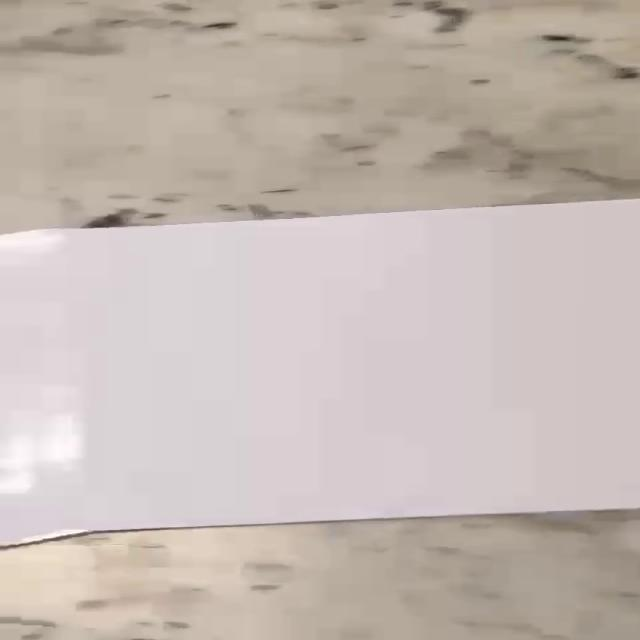road: (0, 201, 639, 542)
